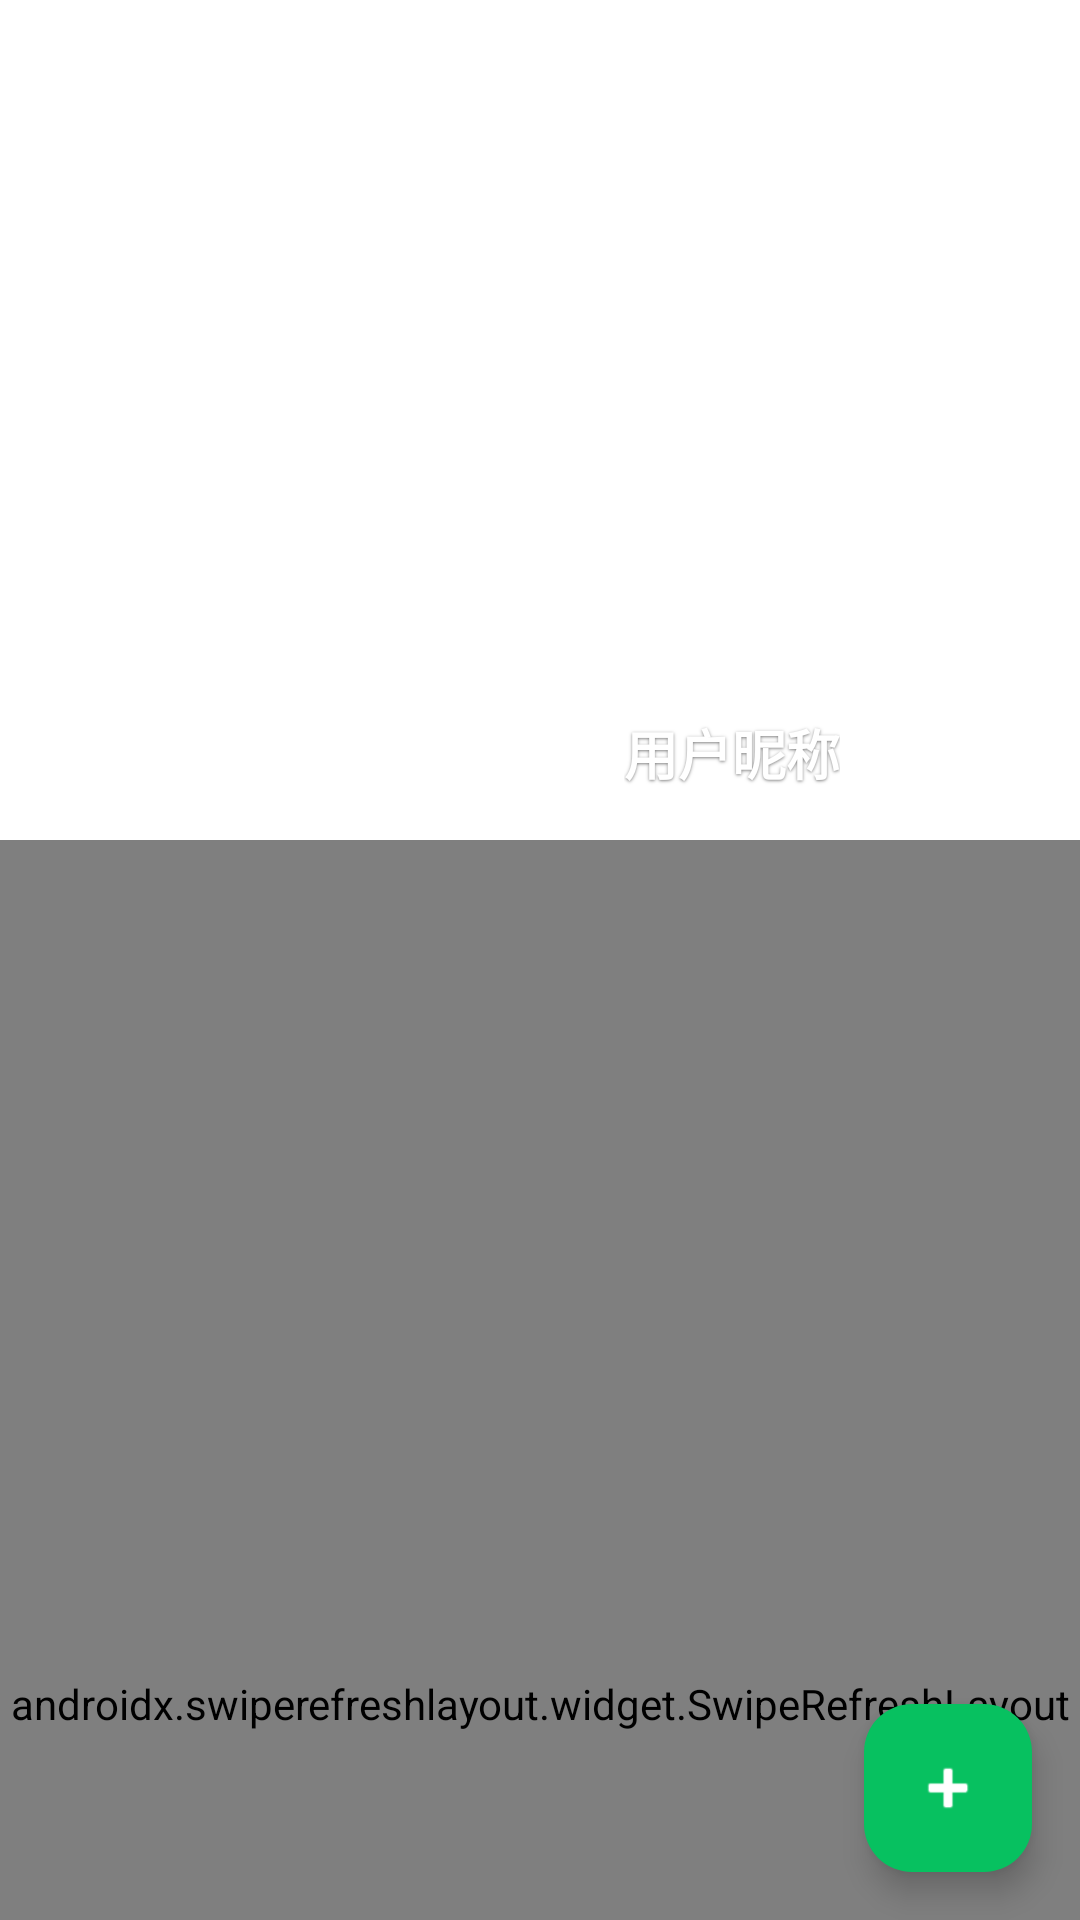

Icon click points for this 1080w x 1920h phone screenshot, format (x,y):
发朋友圈: (948,1788)
